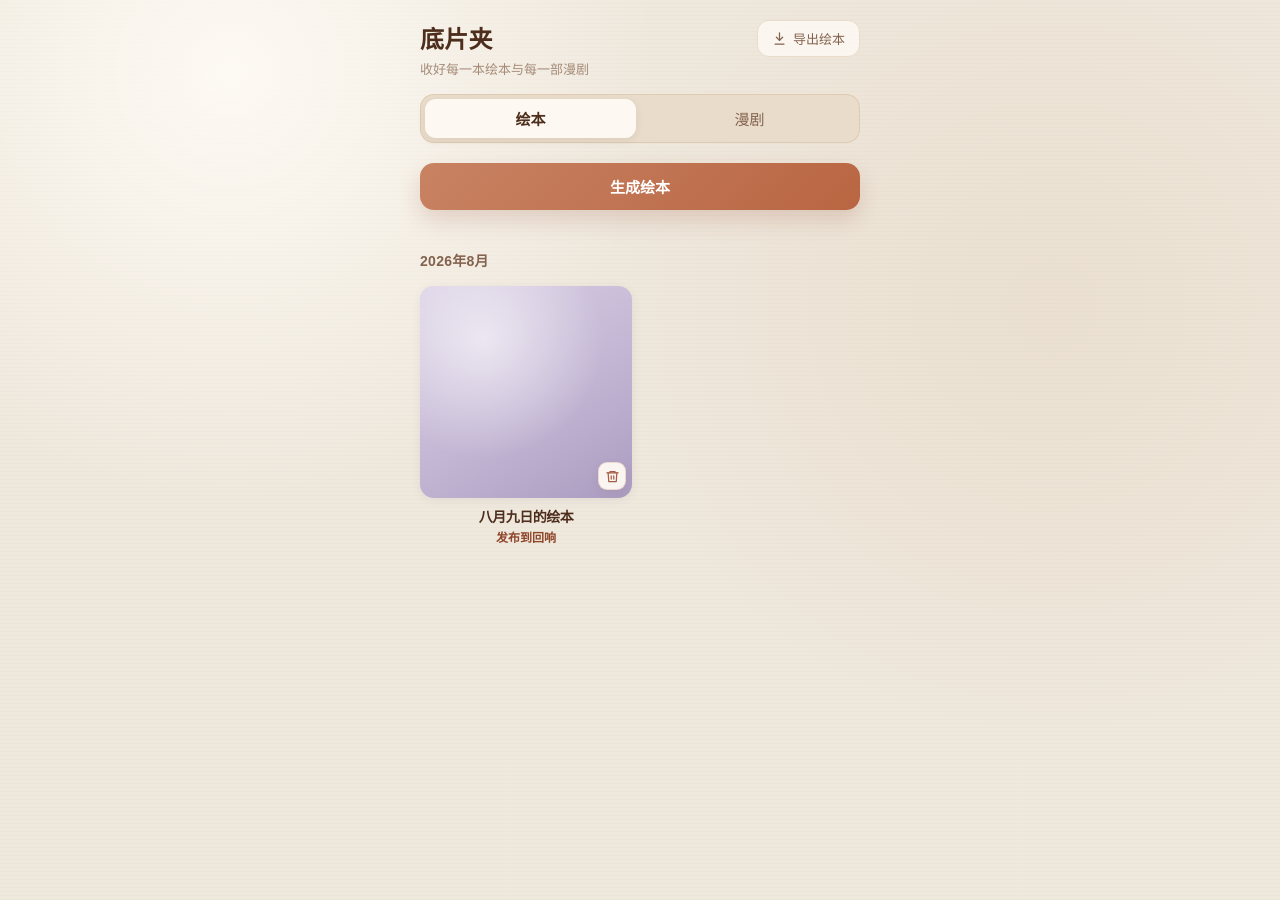
Test case: FilmFolder › picturebook card asks for confirmation before deleting
The image size is (1280, 900).
Later steps or results of the test are not shown.
Click the button named "删除《八月九日的绘本》".
click(612, 476)  # box 598,462 -> 626,490
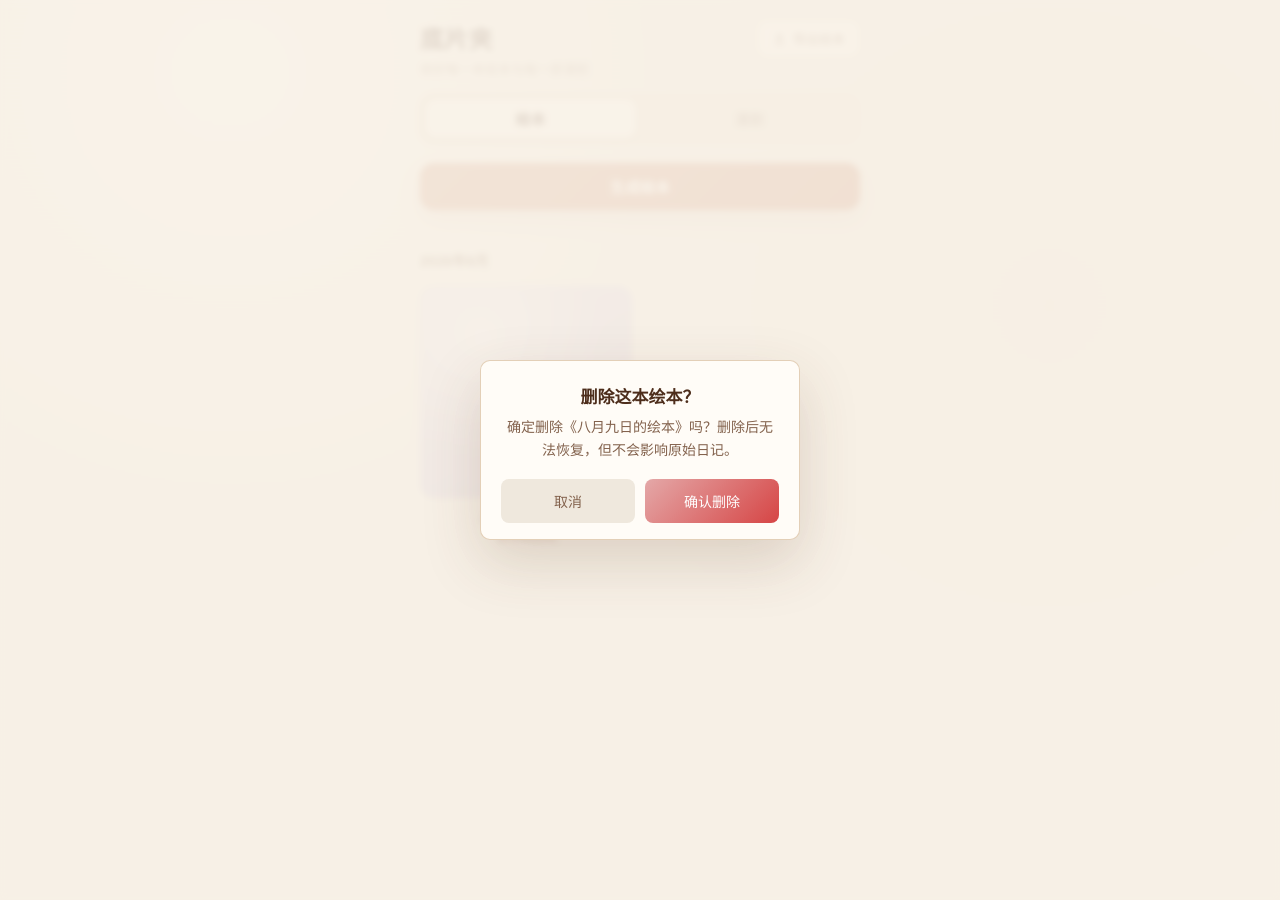
expect the dialog "删除这本绘本？" is shown: met, box 480,360 -> 800,540
